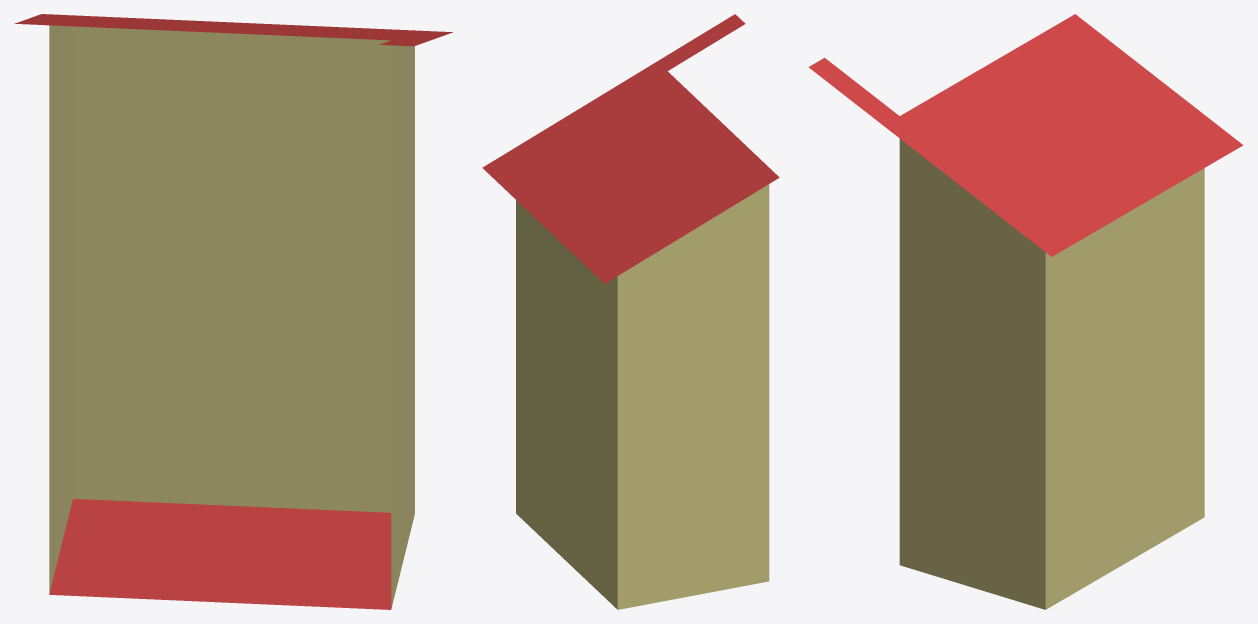
3 renders of one model, left to right at view 1: azimuth 30°, elevation 25°; view 2: azimuth 150°, elevation 25°; view 3: azimuth 270°, elevation 25°, orthographic. The views are drawn at different scales.
Size of the model in its own units: 6.95 by 7.83 by 9.62.
